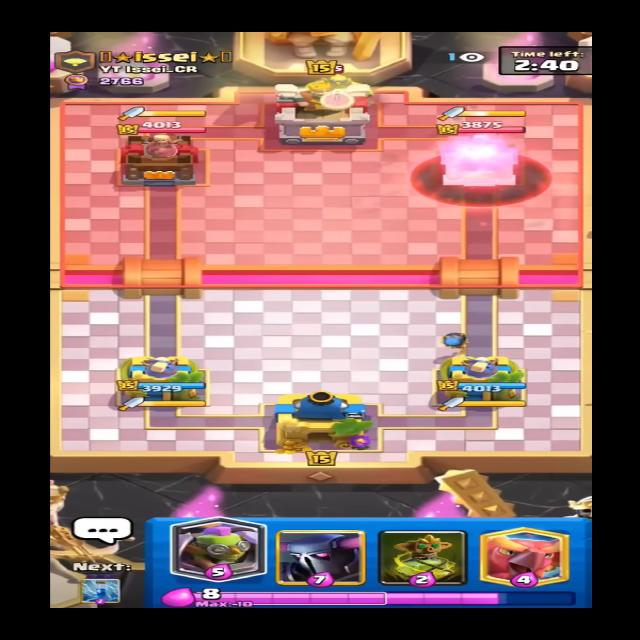goblin-demolisher: (299, 66, 367, 98)
